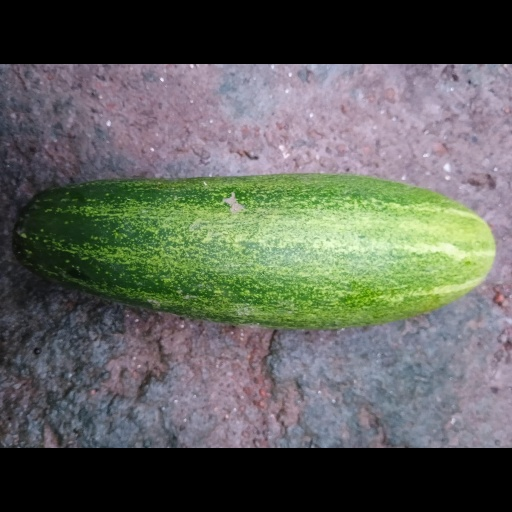concombre: (13, 172, 497, 329)
